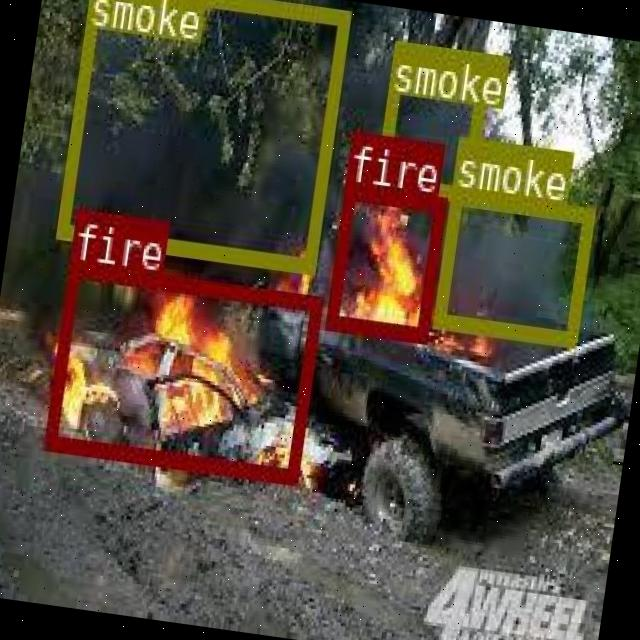fire: (43, 260, 320, 480), (326, 182, 444, 340)
smoke: (54, 0, 349, 271), (431, 185, 594, 344), (374, 38, 490, 200)
